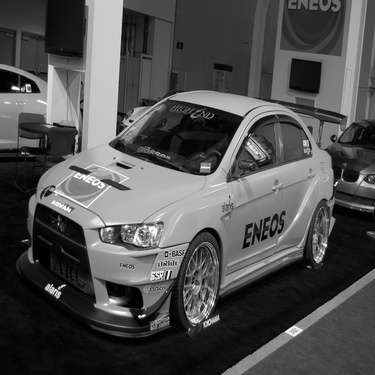car: (9, 86, 343, 354), (318, 115, 375, 216), (1, 61, 61, 156), (116, 93, 184, 134)
